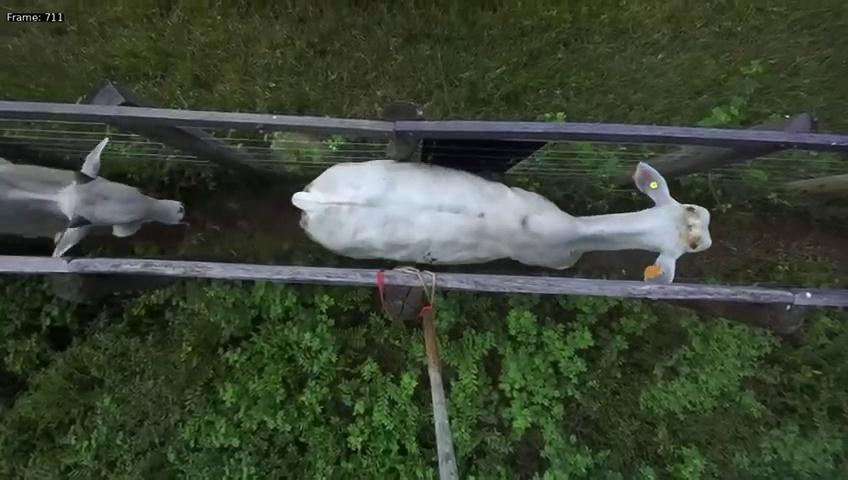cattle: (290, 152, 714, 280)
